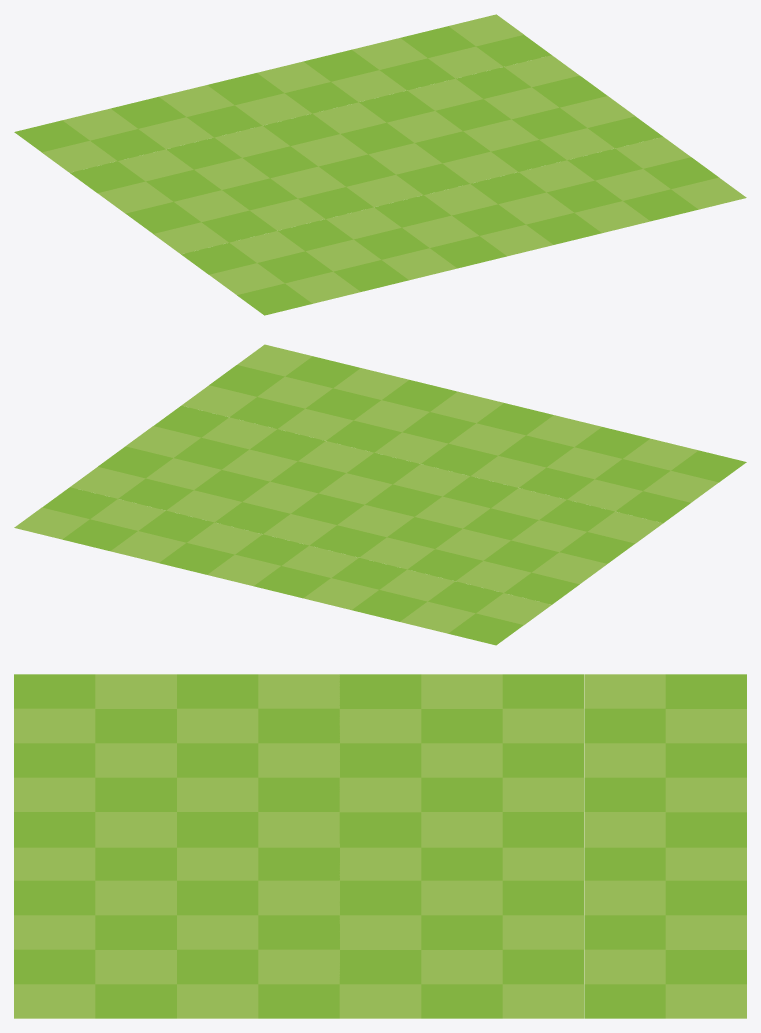
File: Grass10.fbx
The picture shows the model from 3 angles, top to bottom: view 1: azimuth 30°, elevation 25°; view 2: azimuth 150°, elevation 25°; view 3: azimuth 270°, elevation 25°; orthographic projection. The views are drawn at different scales.
Visible parts, largest first — view 1: Plane.005; view 2: Plane.005; view 3: Plane.005.
Part boxes in pixels (x1,y1,x2,y2): Plane.005: [14, 14, 746, 315]; Plane.005: [14, 344, 746, 645]; Plane.005: [14, 674, 746, 1018].
Size of the model in its own units: 10 by 4.89e-07 by 9.
